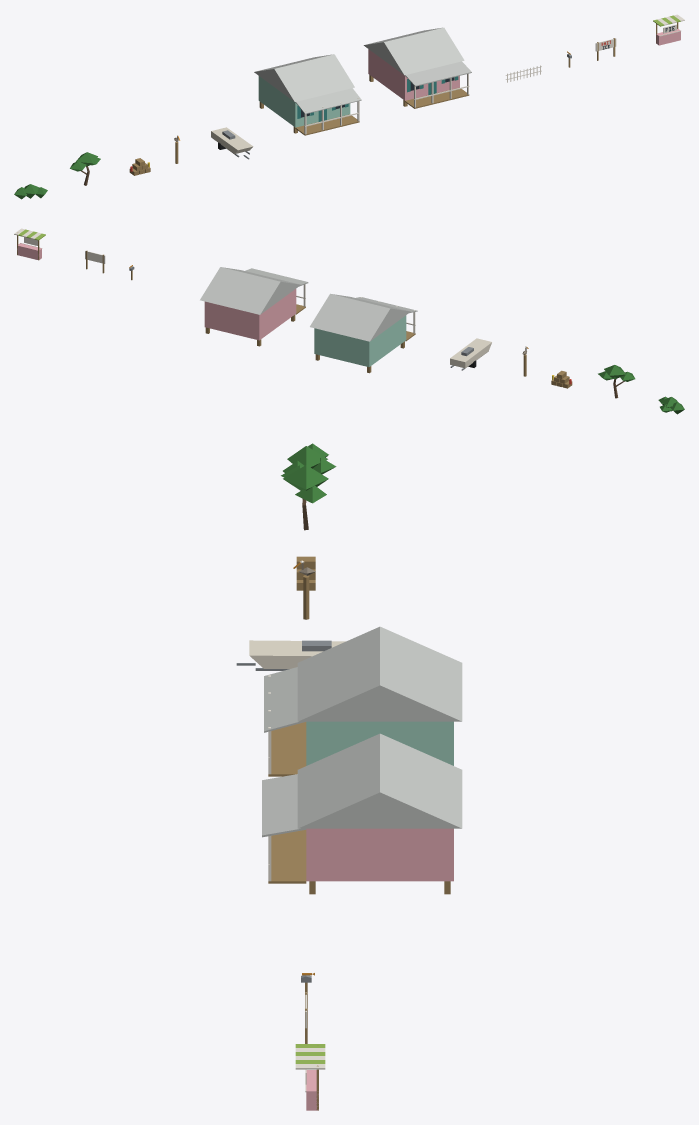
File: keys-roadside.glb
The picture shows the model from 3 angles, top to bottom: view 1: azimuth 30°, elevation 25°; view 2: azimuth 150°, elevation 25°; view 3: azimuth 270°, elevation 25°; orthographic projection. The views are drawn at different scales.
Visible parts, largest first — view 1: keys_cottage_a_body, keys_cottage_b_body, keys_trailer_body, keys_pie_body, keys_seagrape_tree_body, keys_seagrape_body; view 2: keys_cottage_b_body, keys_cottage_a_body, keys_trailer_body, keys_pie_body, keys_seagrape_tree_body, keys_seagrape_body; view 3: keys_cottage_b_body, keys_cottage_a_body, keys_trailer_body, keys_pie_body, keys_seagrape_tree_body.
Part boxes in pixels (x1,y1,x2,y2): keys_cottage_a_body: [254, 54, 361, 135]; keys_cottage_b_body: [363, 27, 471, 108]; keys_trailer_body: [211, 127, 253, 159]; keys_pie_body: [653, 14, 684, 45]; keys_seagrape_tree_body: [70, 152, 100, 185]; keys_seagrape_body: [14, 184, 47, 199]; keys_cottage_b_body: [200, 267, 308, 346]; keys_cottage_a_body: [310, 293, 417, 373]; keys_trailer_body: [450, 338, 491, 370]; keys_pie_body: [14, 228, 45, 260]; keys_seagrape_tree_body: [598, 365, 635, 398]; keys_seagrape_body: [658, 396, 684, 414]; keys_cottage_b_body: [262, 733, 462, 894]; keys_cottage_a_body: [264, 626, 462, 776]; keys_trailer_body: [236, 640, 345, 670]; keys_pie_body: [295, 1044, 325, 1110]; keys_seagrape_tree_body: [281, 465, 328, 530].
Bounding box in the file's own units: 72.99 × 5.5 × 10.7.
